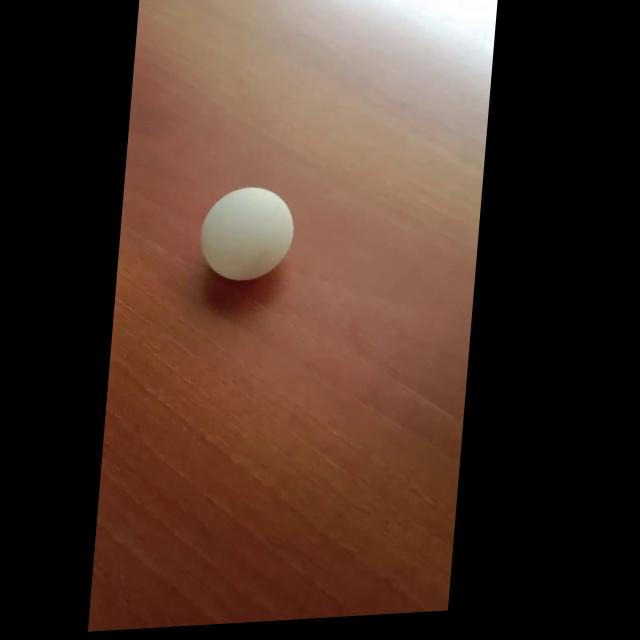white ball: (196, 182, 298, 284)
